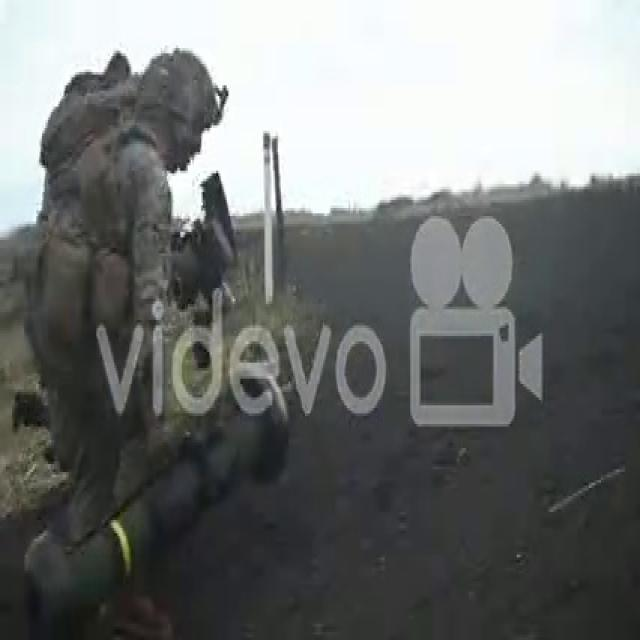bazooka: (15, 355, 294, 640)
